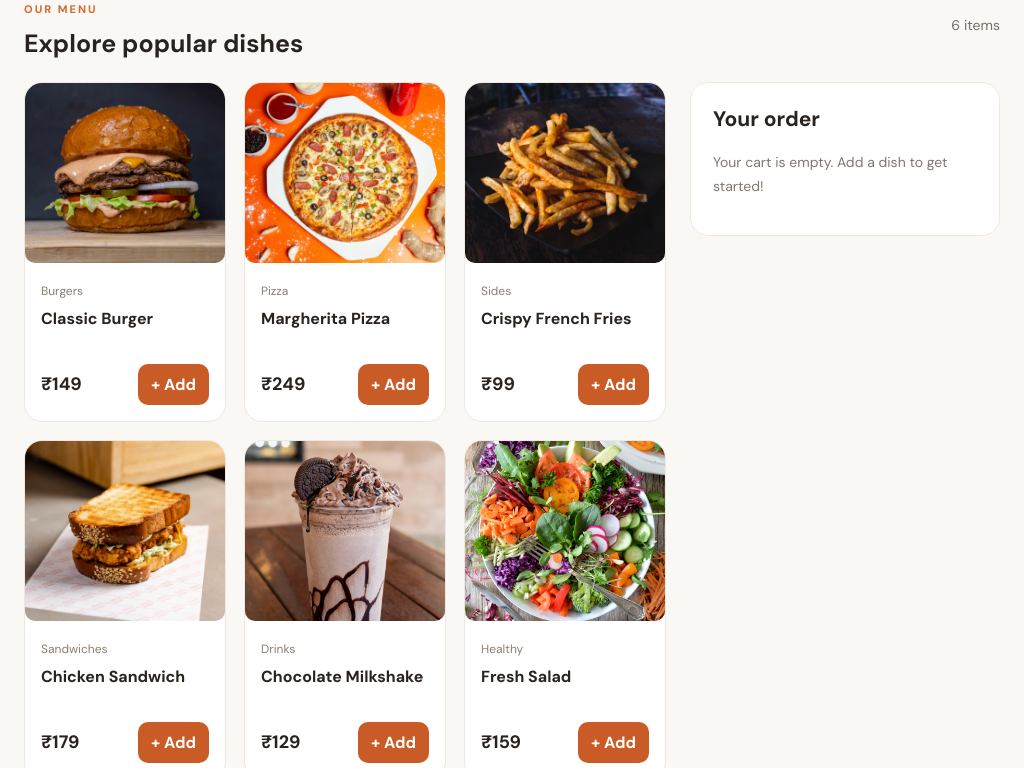
Test: QuickBite Food Order App › adds a food item to the cart
(page scrolled)
What coordinates should you click on to do the following:
click the button "+ Add" next to "149"
I would click on:
 (174, 384)
Its box is [138,364,209,405].
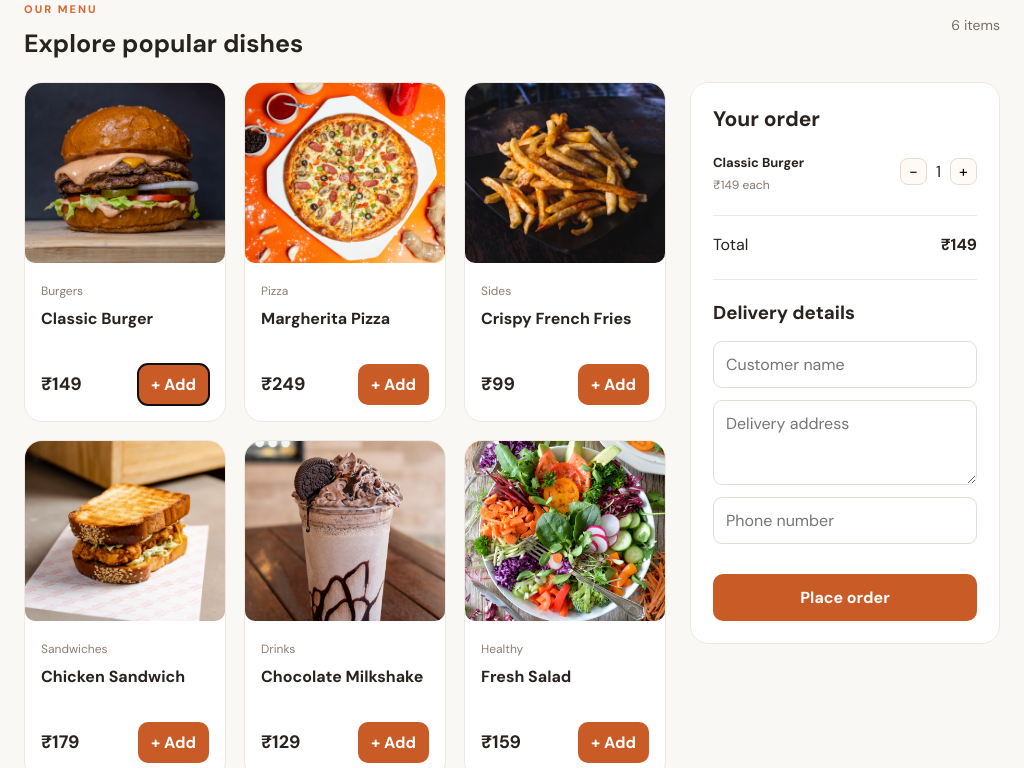
Check: the text "₹149" below "Burgers" is shown, box [41,372,82,396]
Check: the text "₹149 each" is shown, box [713,177,770,193]
